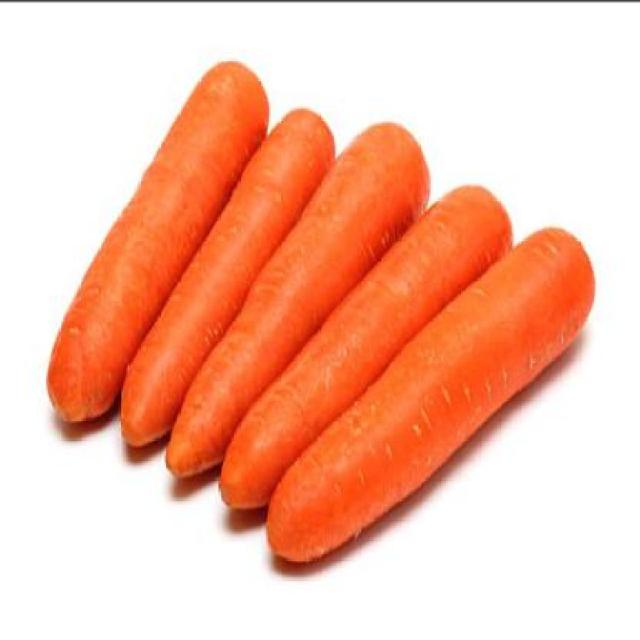carrot: (266, 224, 596, 562), (219, 182, 513, 508), (164, 121, 430, 479), (46, 60, 271, 422), (119, 108, 336, 446)
